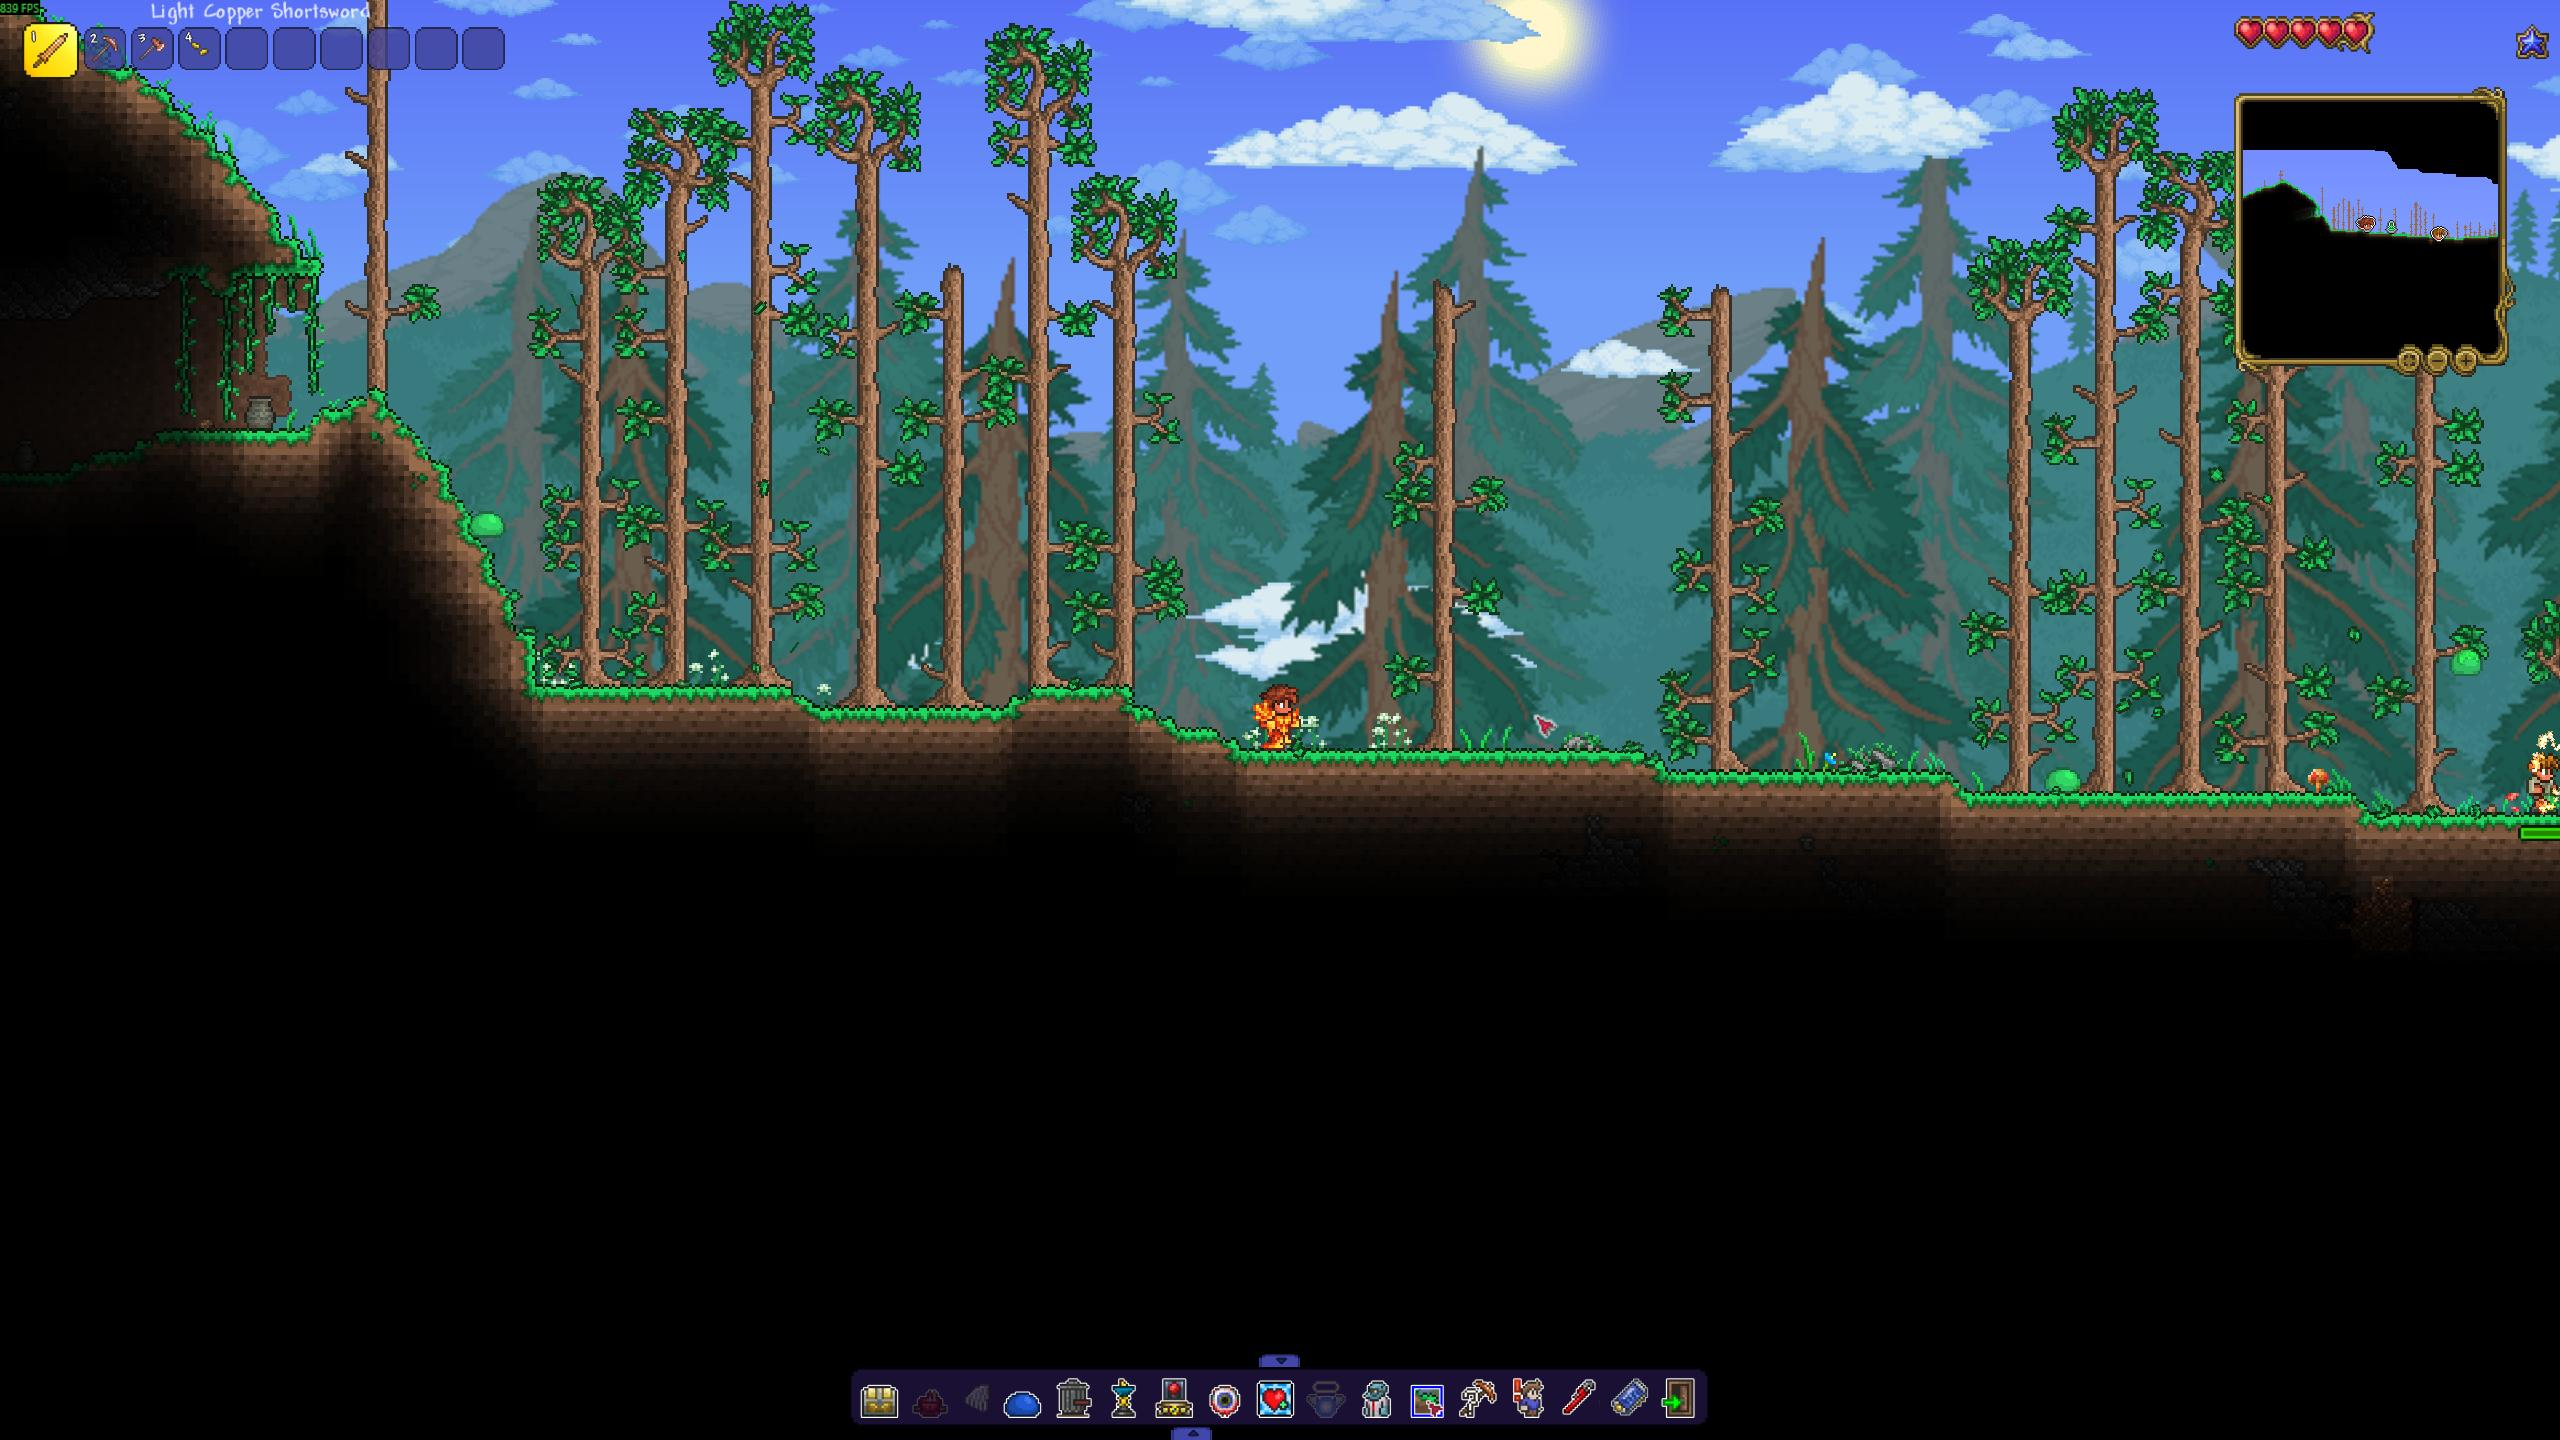Green Slime: (2041, 763, 2084, 796), (464, 508, 508, 538), (2449, 647, 2483, 677)
